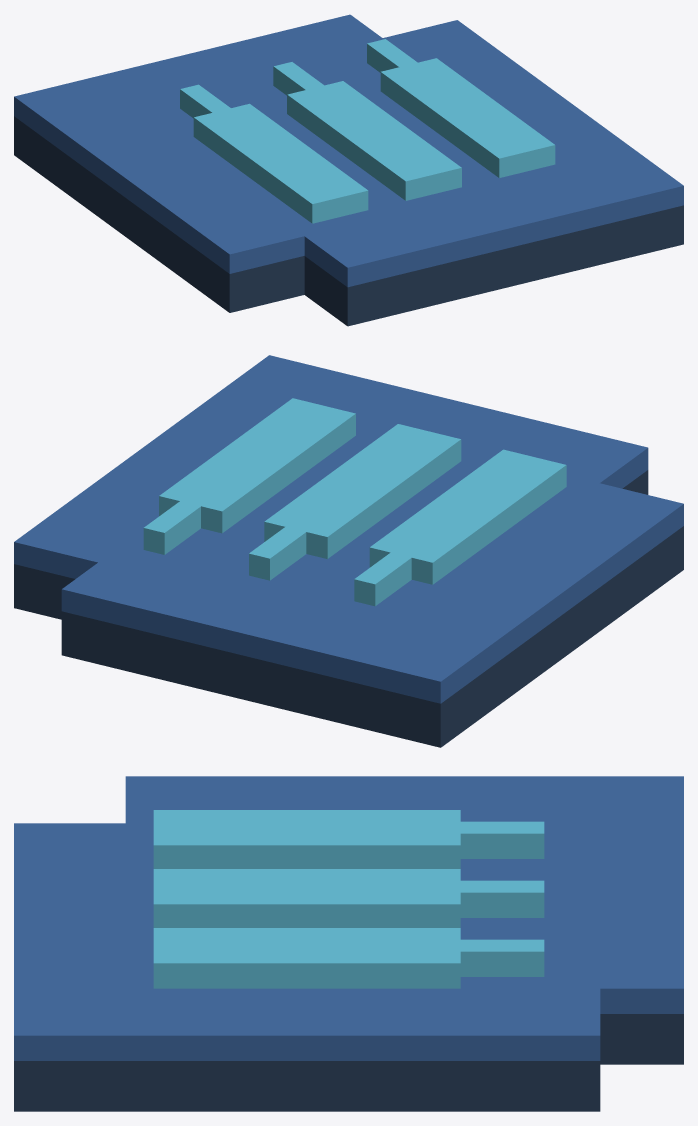
File: voxel_32_70201.glb
3 renders of one model, top to bottom at view 1: azimuth 30°, elevation 25°; view 2: azimuth 150°, elevation 25°; view 3: azimuth 270°, elevation 25°, orthographic. The views are drawn at different scales.
Parts seen in each view (by area): view 1: prop_70201; view 2: prop_70201; view 3: prop_70201.
Part boxes in pixels (x1,y1,x2,y2): prop_70201: (14, 14, 683, 326); prop_70201: (14, 355, 683, 747); prop_70201: (14, 776, 683, 1111).
Bounding box in the file's own units: 0.5706 × 0.1037 × 0.6225.
